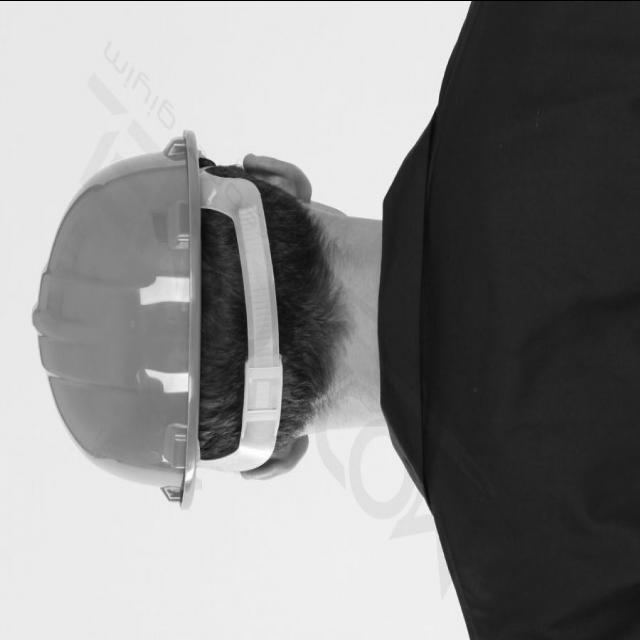safety_helmet: (33, 129, 287, 510)
